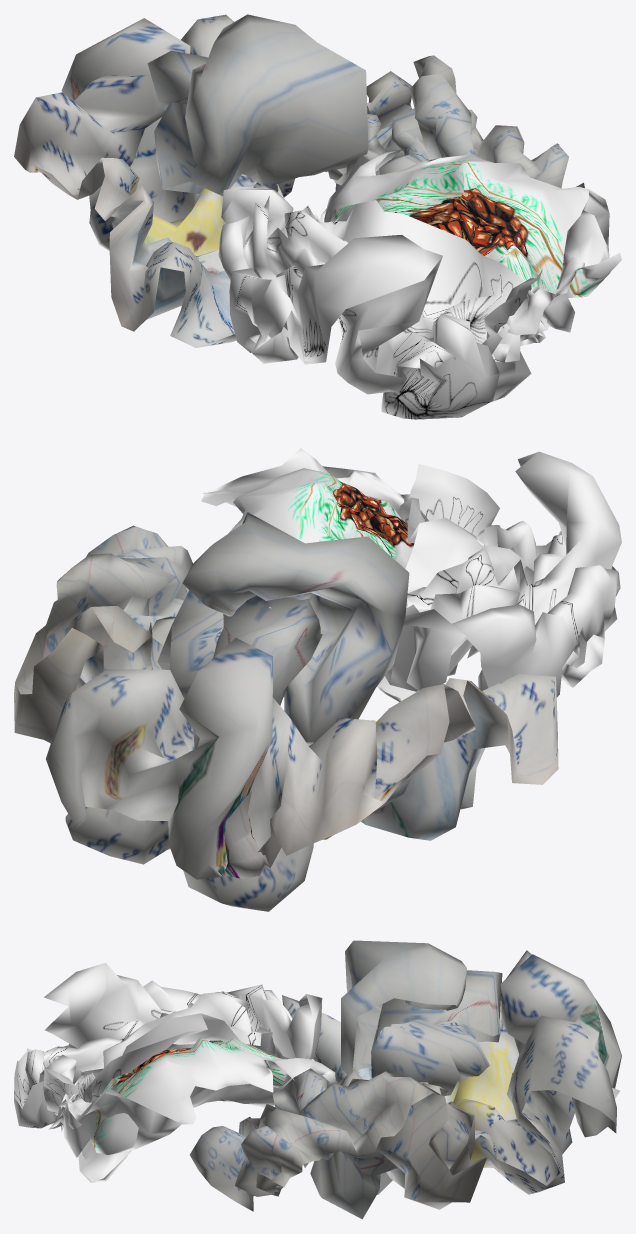
File: CrumbledPaper.fbx
The picture shows the model from 3 angles, top to bottom: view 1: azimuth 30°, elevation 25°; view 2: azimuth 150°, elevation 25°; view 3: azimuth 270°, elevation 25°; orthographic projection. The views are drawn at different scales.
Visible parts, largest first — view 1: Crumpled Paper 040, Crumpled Paper 030, Crumpled Paper 010, Crumpled Paper 050, Crumpled Paper 020; view 2: Crumpled Paper 030, Crumpled Paper 040, Crumpled Paper 010, Crumpled Paper 020, Crumpled Paper 050; view 3: Crumpled Paper 020, Crumpled Paper 030, Crumpled Paper 040, Crumpled Paper 010, Crumpled Paper 050.
Boxes of the visible parts, x1,y1,x2,y2 form: Crumpled Paper 040: (218, 186, 542, 419); Crumpled Paper 030: (14, 14, 294, 347); Crumpled Paper 010: (147, 14, 368, 196); Crumpled Paper 050: (319, 149, 621, 402); Crumpled Paper 020: (328, 55, 584, 190); Crumpled Paper 030: (46, 638, 558, 911); Crumpled Paper 040: (385, 451, 621, 697); Crumpled Paper 010: (157, 512, 409, 742); Crumpled Paper 020: (14, 525, 199, 748); Crumpled Paper 050: (201, 448, 418, 701); Crumpled Paper 020: (190, 1068, 487, 1219); Crumpled Paper 030: (282, 950, 621, 1194); Crumpled Paper 040: (14, 962, 322, 1128); Crumpled Paper 010: (341, 940, 502, 1096); Crumpled Paper 050: (48, 1037, 338, 1182).
Bounding box in the file's own units: 19.95 × 12.2 × 28.52.
Materials: 1 (1 with a texture image).
